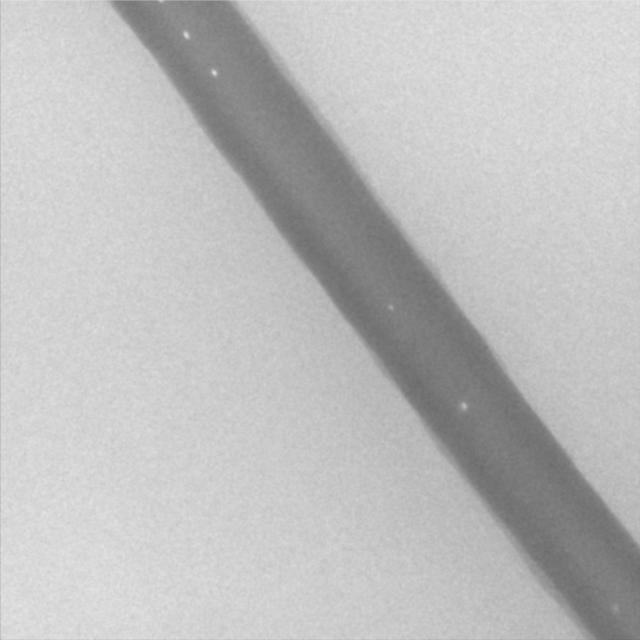air hole: (458, 400, 469, 411), (181, 29, 190, 41), (209, 67, 218, 77), (386, 302, 395, 311)
